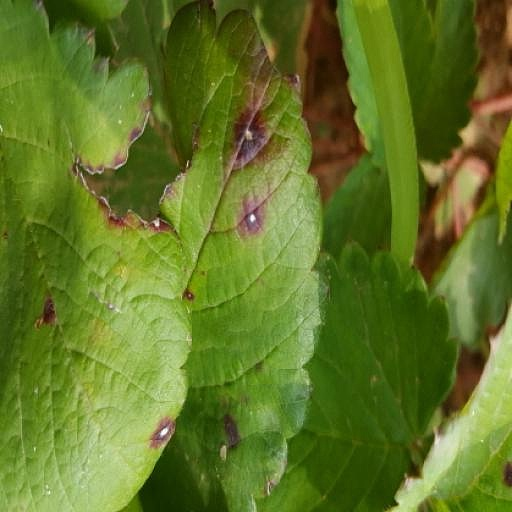Leaf Spot: (319, 0, 511, 511), (181, 0, 372, 511)
